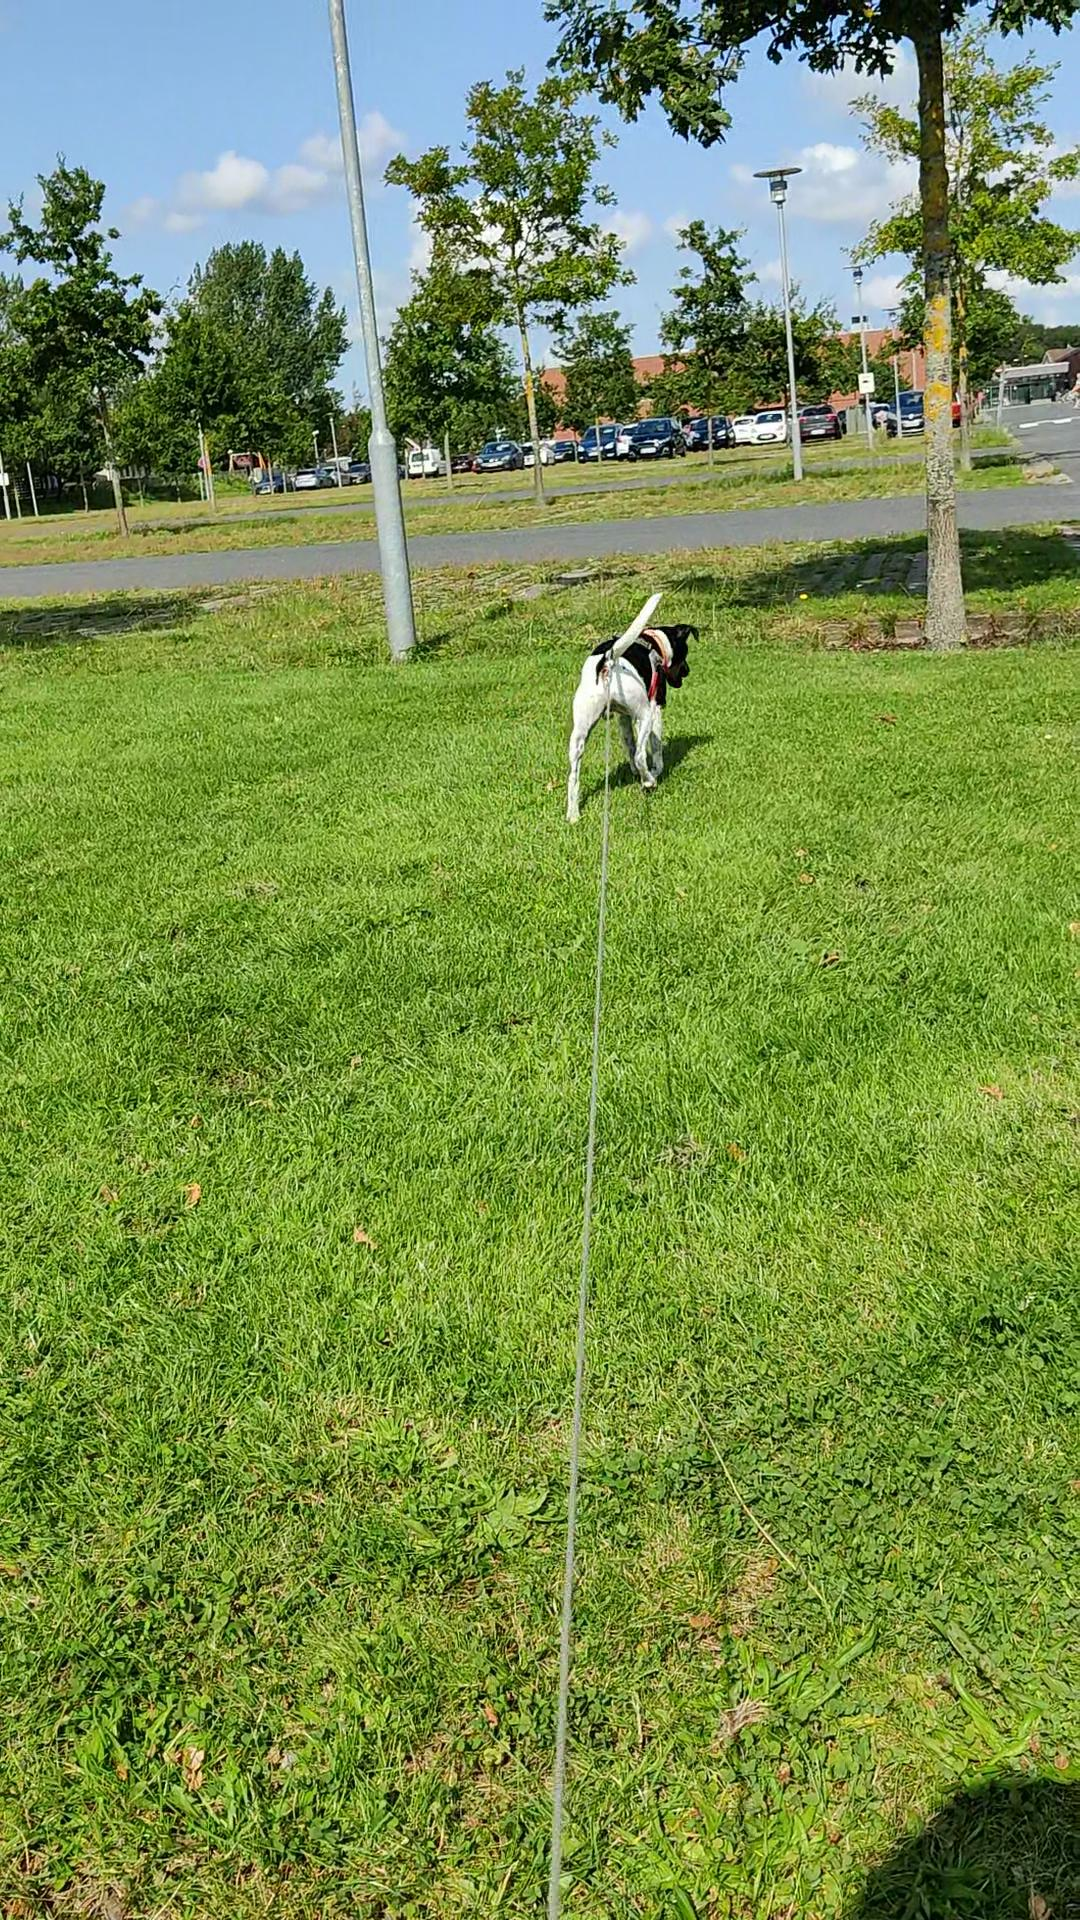Dog: (558, 589, 702, 832)
